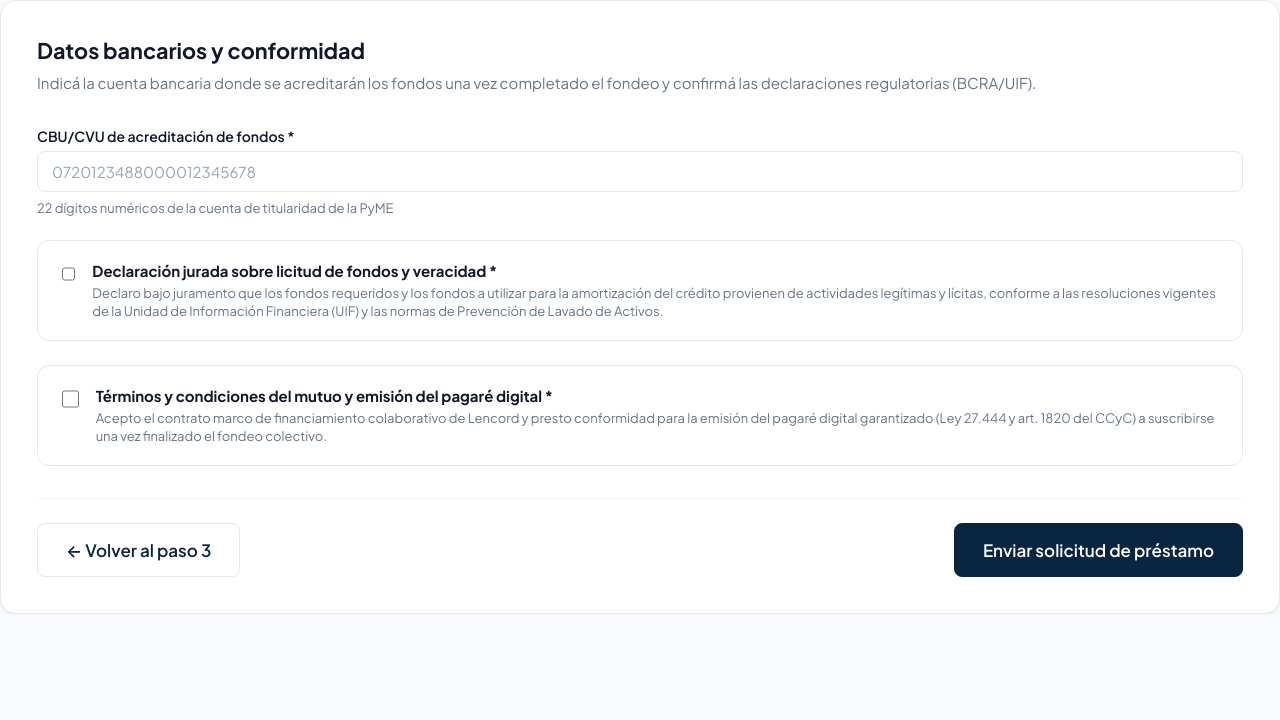
Test: Step 4: Banking Verification and Submission (Task 12) › validates 22-digit CBU and requires sworn declaration and terms checkboxes
The width and height of the screenshot is (1280, 720).
# Click submit empty
Click the button with test id "step4-submit-button".
click(1098, 550)  # box x1=954 y1=523 x2=1243 y2=577
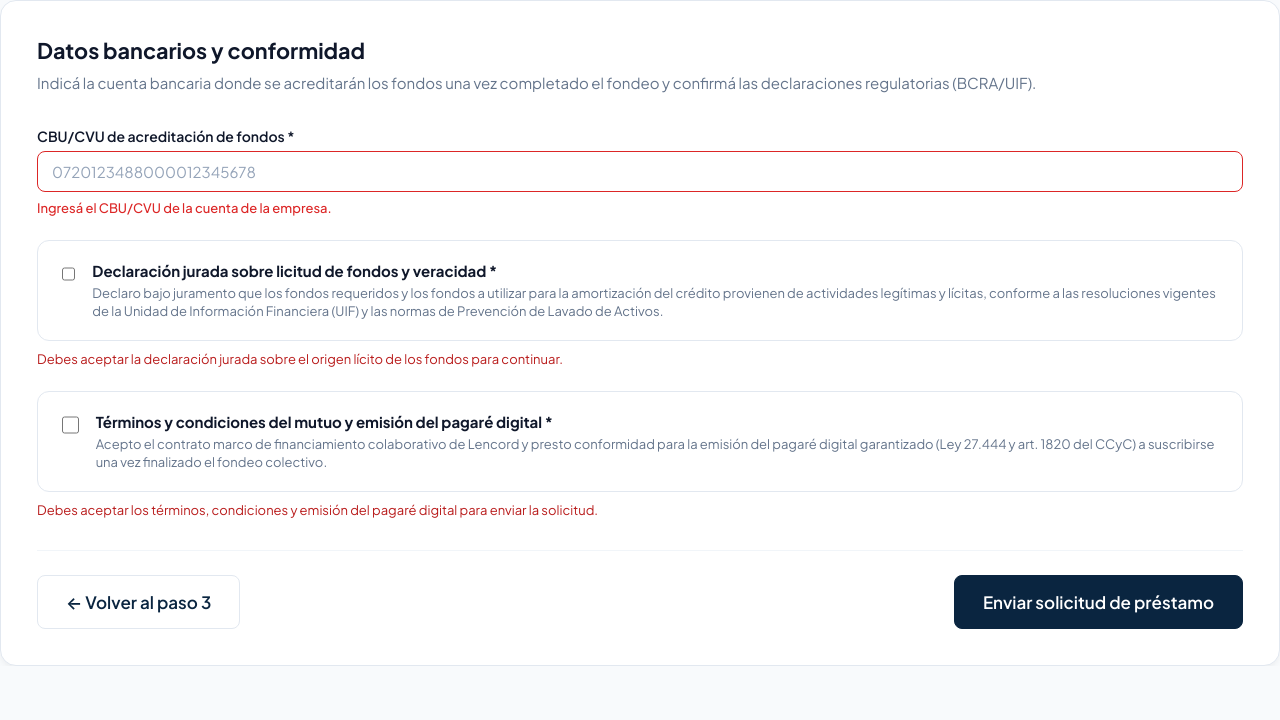
Result: the text "Ingresá el CBU/CVU de la cuenta de la empresa." is shown at x1=37 y1=200 x2=332 y2=216
Result: the text "Debes aceptar la declaración jurada sobre el origen lícito" is shown at x1=37 y1=351 x2=563 y2=367
Result: the text "Debes aceptar los términos, condiciones y emisión del pagaré digital" is shown at x1=37 y1=502 x2=598 y2=518
# Fill invalid CBU (less than 22 digits)
Type "0720123488" into the field with test id "input-cbu".
click(640, 171); type("0720123488")  # box x1=38 y1=152 x2=1242 y2=190
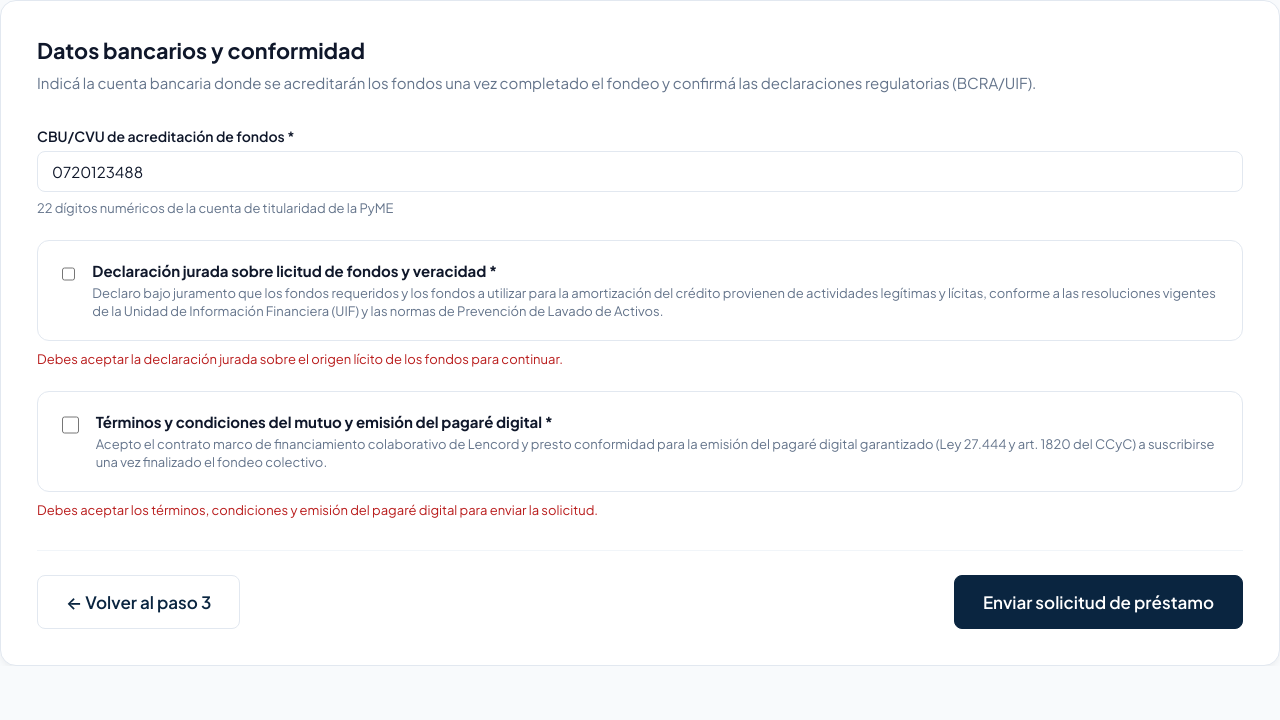
Click the button with test id "step4-submit-button".
click(1098, 602)  # box x1=954 y1=575 x2=1243 y2=629
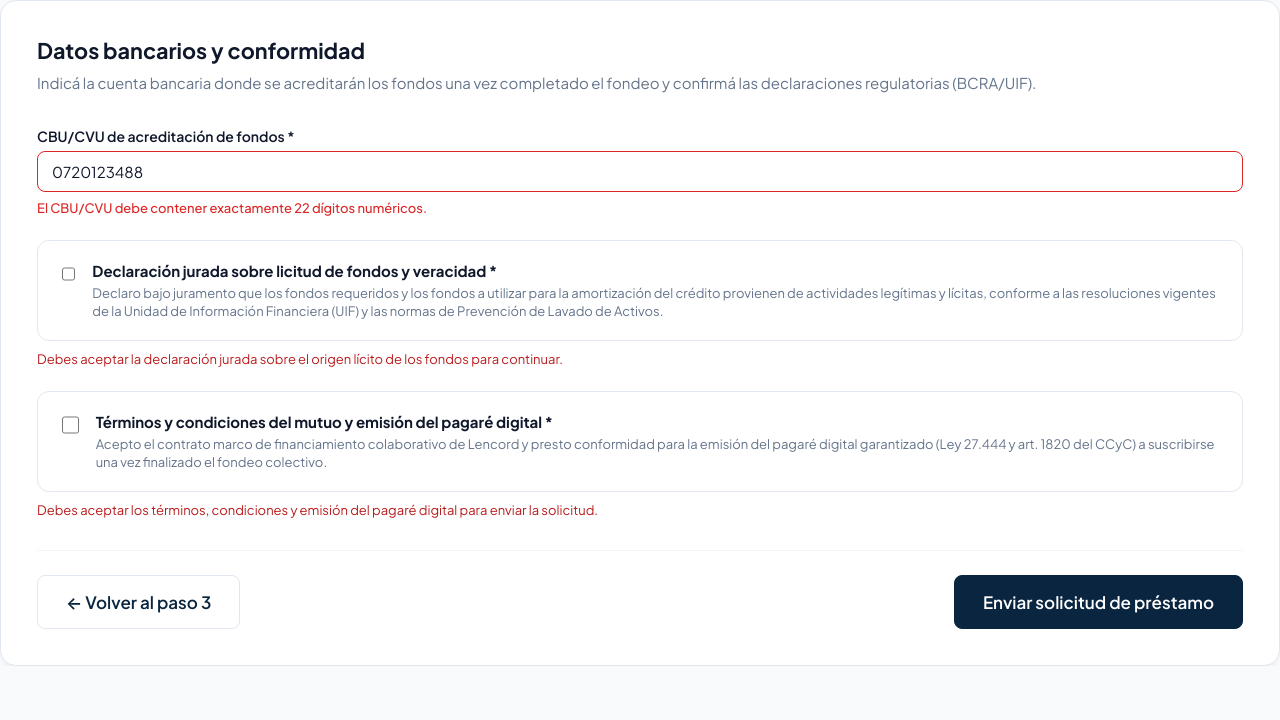
Result: the text "El CBU/CVU debe contener exactamente 22 dígitos numéricos." is shown at x1=37 y1=200 x2=427 y2=216
